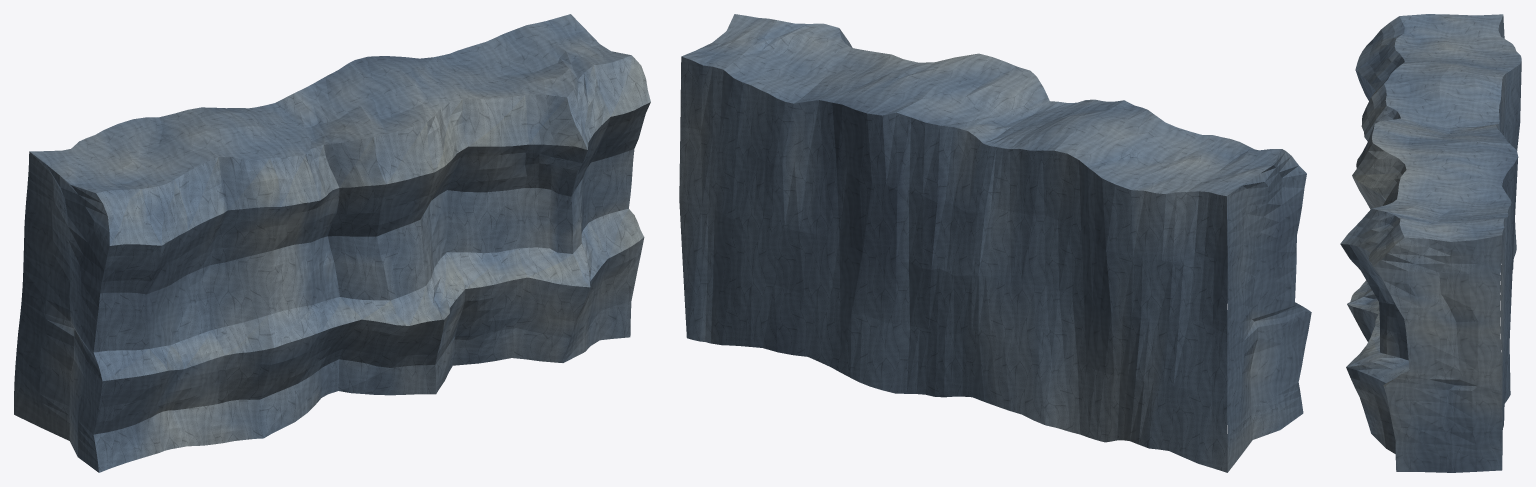
3 renders of one model, left to right at view 1: azimuth 30°, elevation 25°; view 2: azimuth 150°, elevation 25°; view 3: azimuth 270°, elevation 25°, orthographic. The views are drawn at different scales.
Visible parts, largest first — view 1: F15_stone; view 2: F15_stone; view 3: F15_stone.
Part boxes in pixels (<box>): F15_stone: <box>14,14,650,472</box>; F15_stone: <box>679,14,1311,472</box>; F15_stone: <box>1340,14,1521,472</box>.
Size of the model in its own units: 15.96 by 7.75 by 5.27.
Materials: 1 (1 with a texture image).
